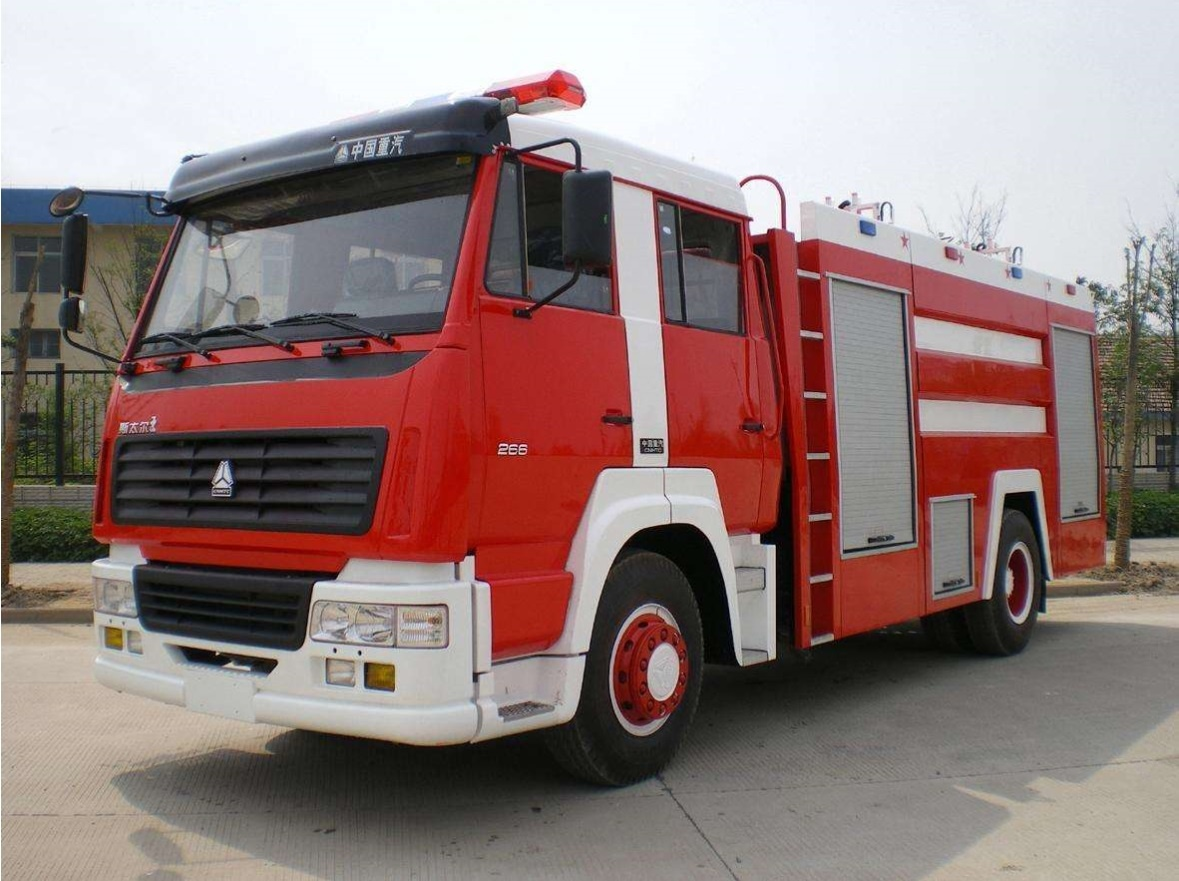fire engine: (105, 66, 1124, 785)
